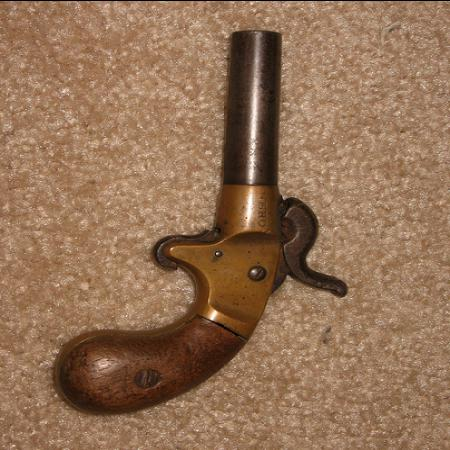Pistol: (57, 25, 351, 410)
